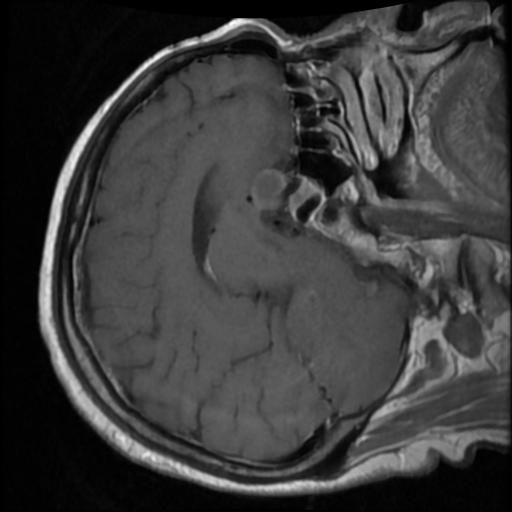pituitary tumour: (248, 168, 286, 212)
